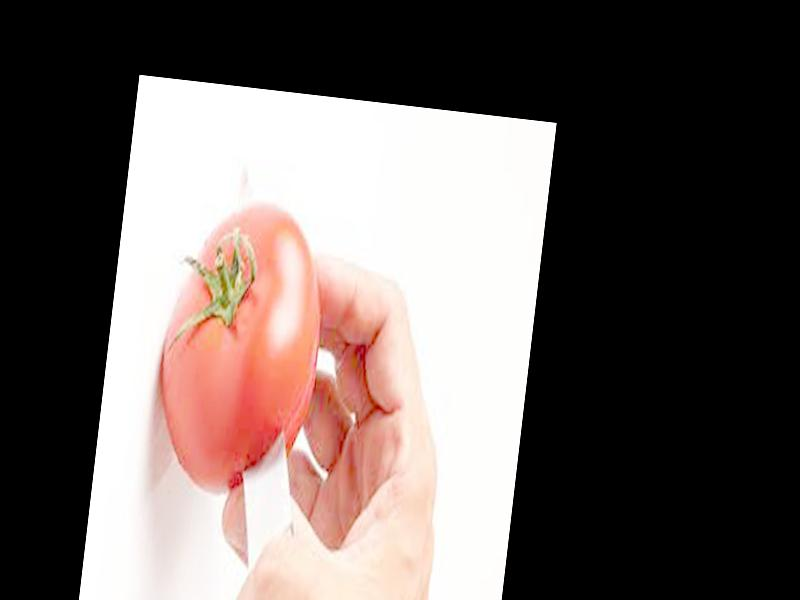Tomato: (148, 199, 334, 502)
